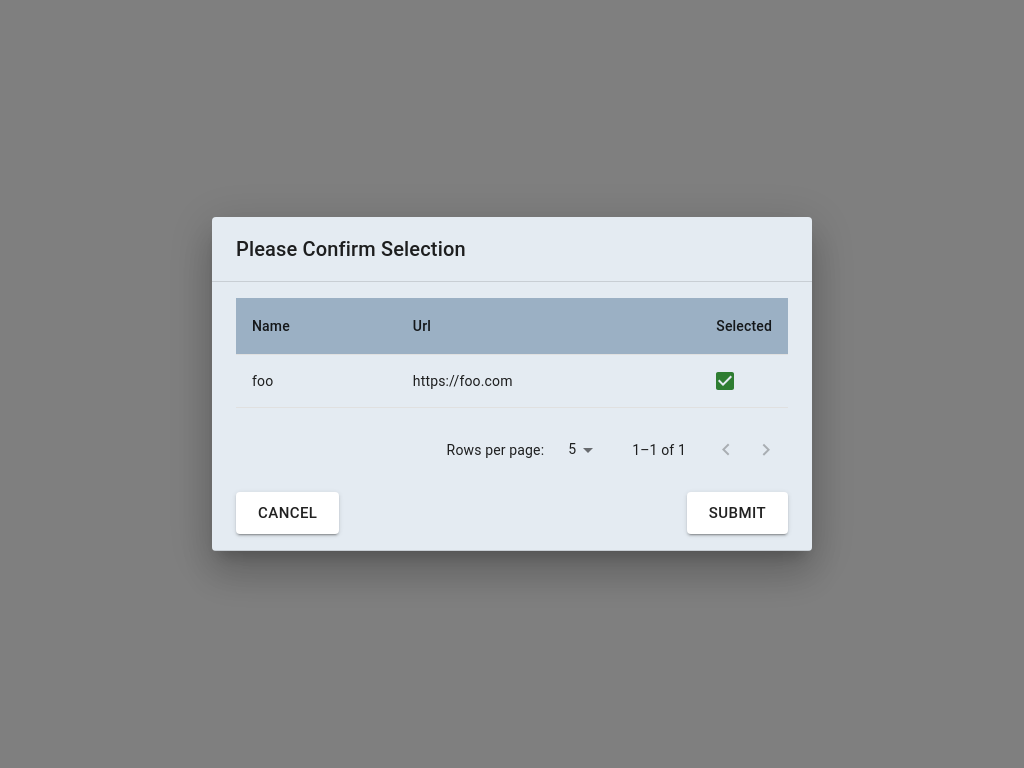
Test: BulkAddCollectorTargetsDialog › should not allow users to submit if none of the options are selected
Click the element named "deselect collector target foo with url https://foo.com" at (725, 381), box x1=713 y1=369 x2=737 y2=393
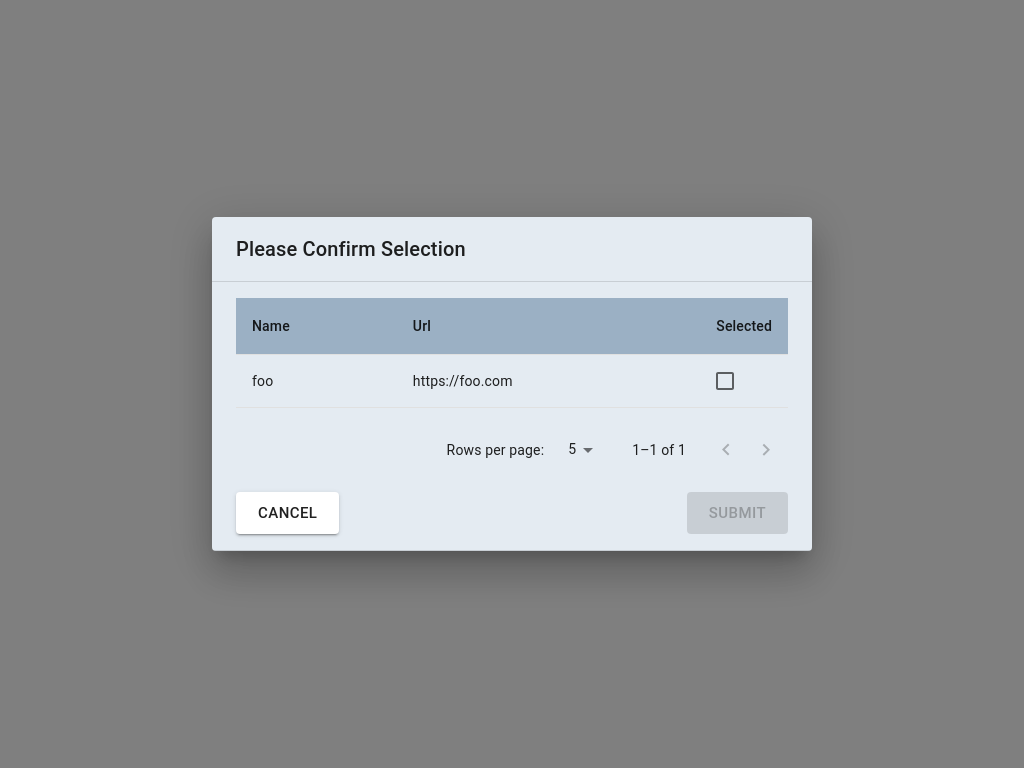
Now the button with aria-label "Submit Your Options" is disabled, box x1=687 y1=492 x2=788 y2=534
